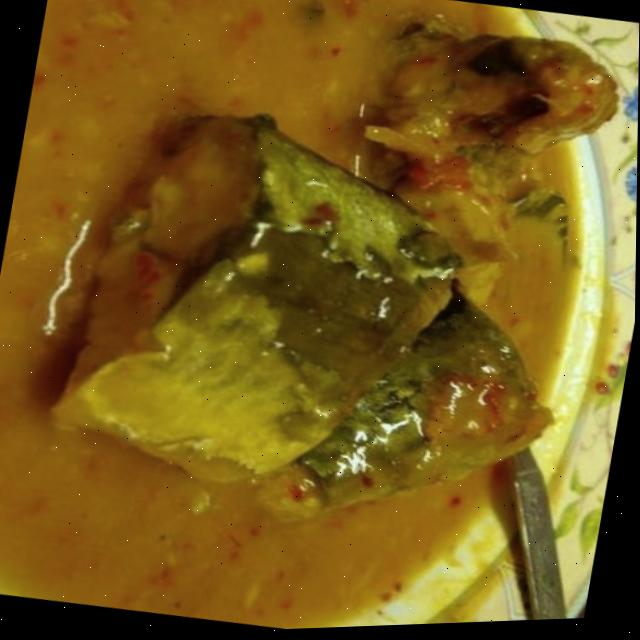熟制海鲜: (0, 0, 634, 619)
